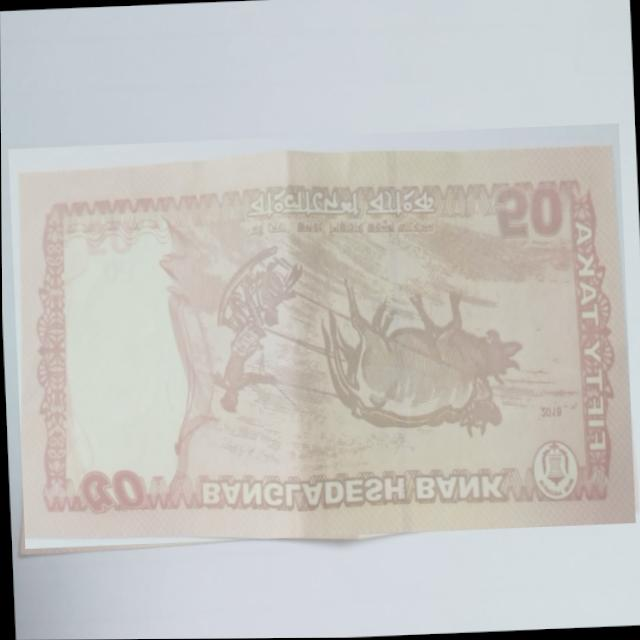Taka: (7, 124, 635, 548)
